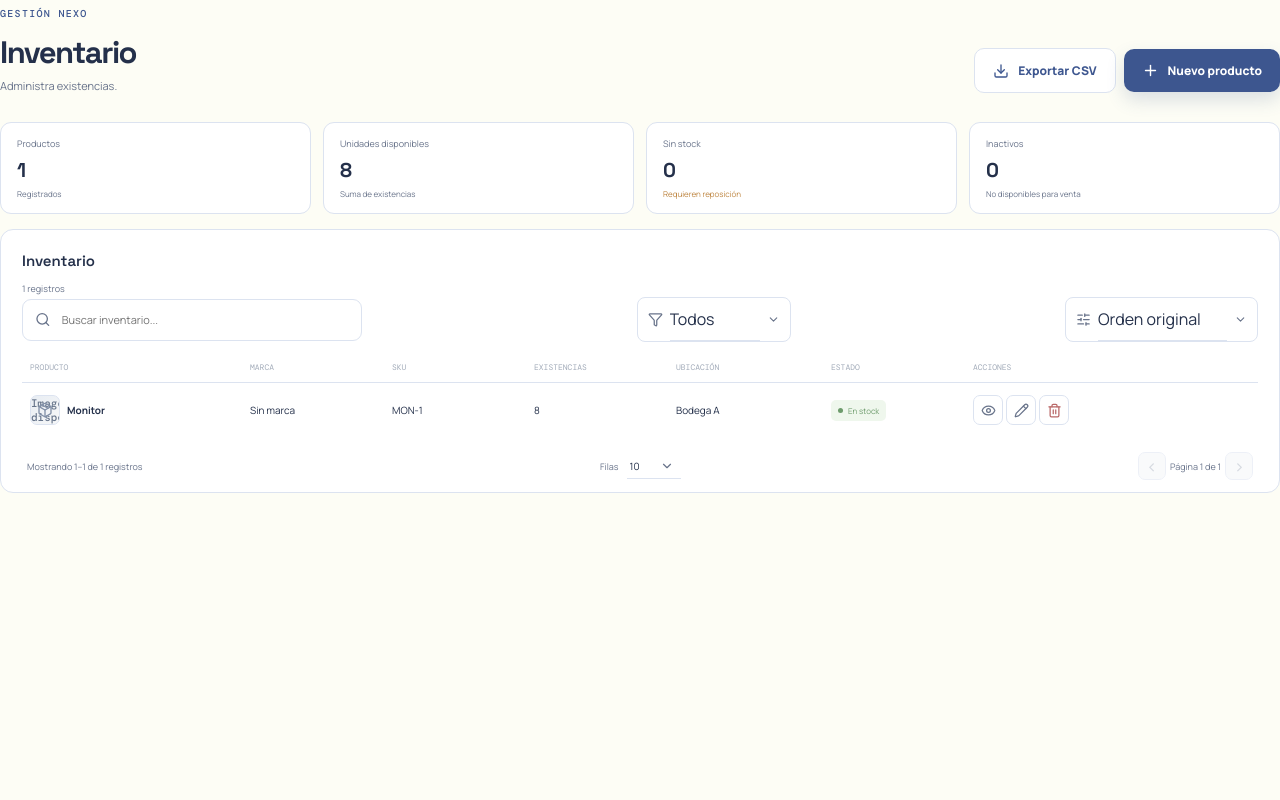
configuración y formularios de inventario › bloquea un monto con precisión inválida antes de actualizar un registro existente
Expected: the text "Monitor" is shown, [67, 403, 105, 417]
Click the button named "Editar Inventario: Monitor" at (1021, 410), box [1006, 395, 1036, 425]
(page scrolled)
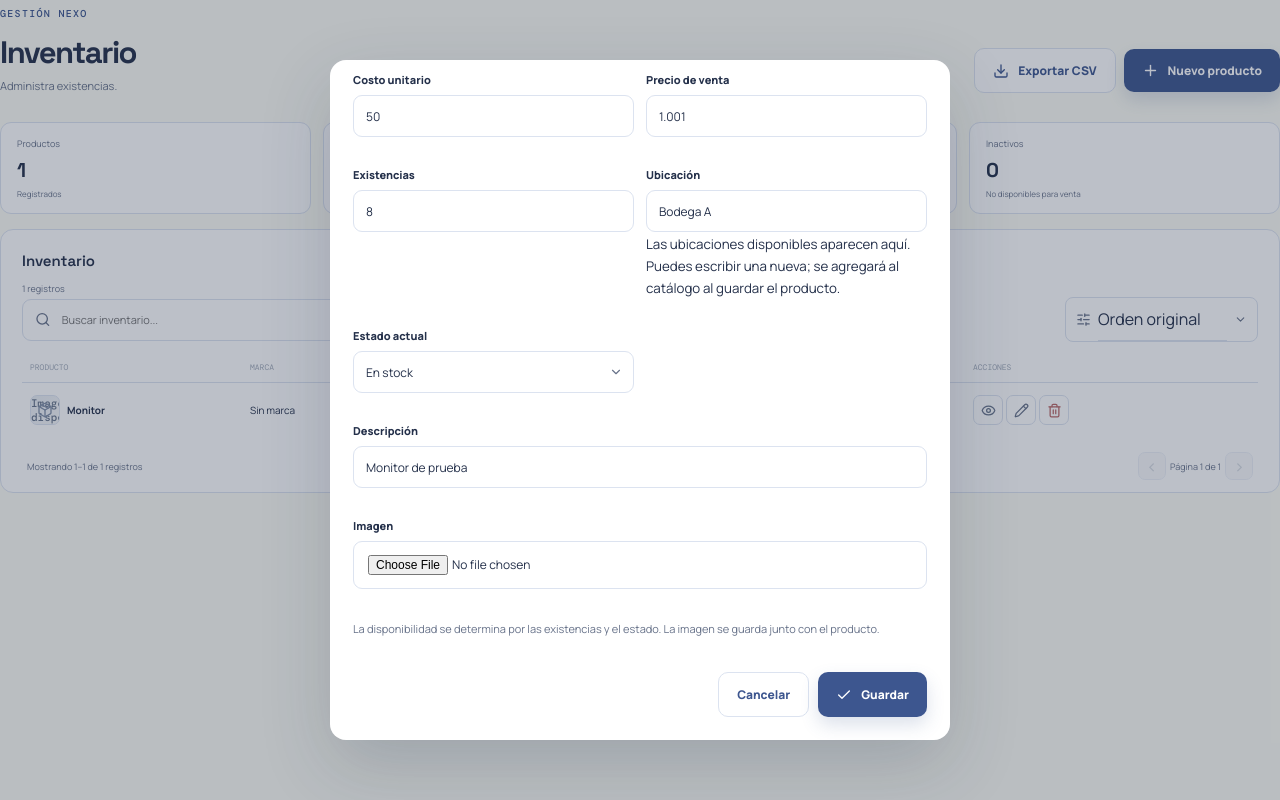
Click the button "Guardar" at (873, 694), box [818, 672, 927, 717]
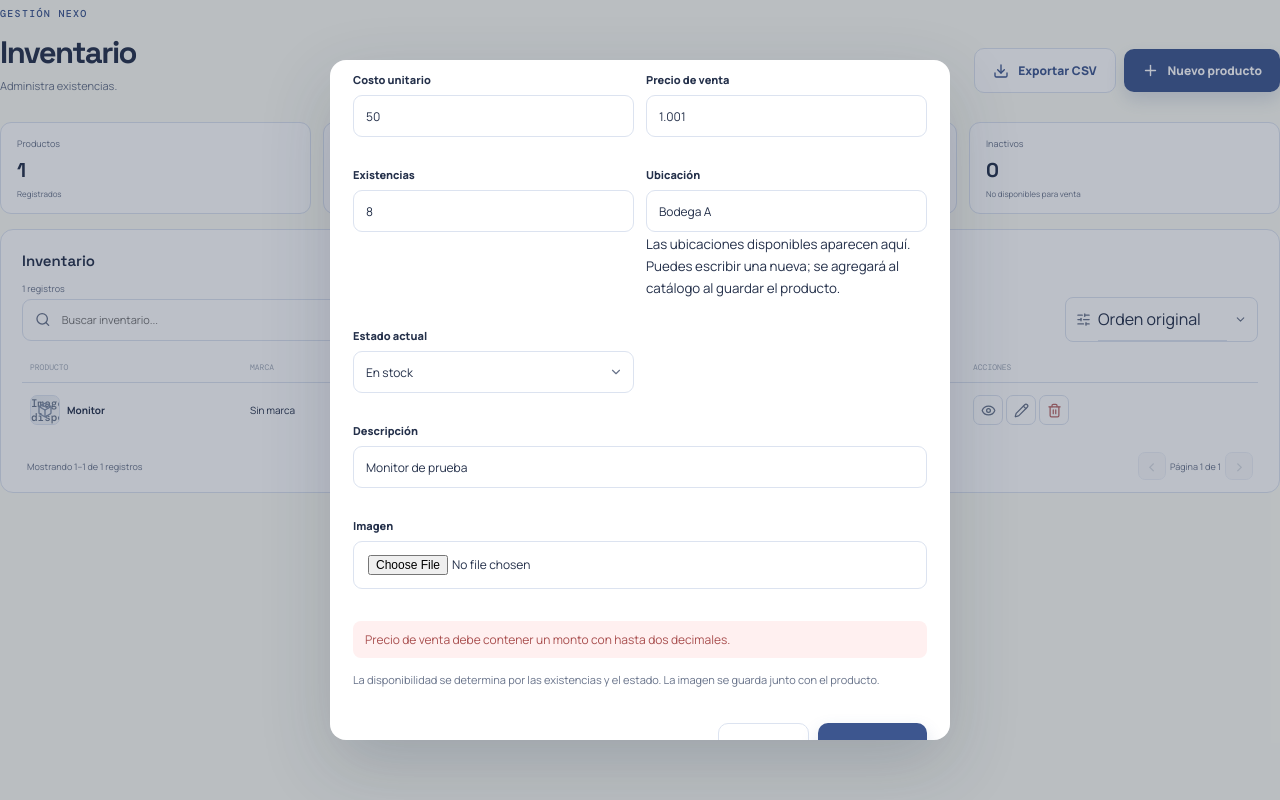
Expected: the message shows "monto con hasta dos decimales", [365, 631, 730, 648]
